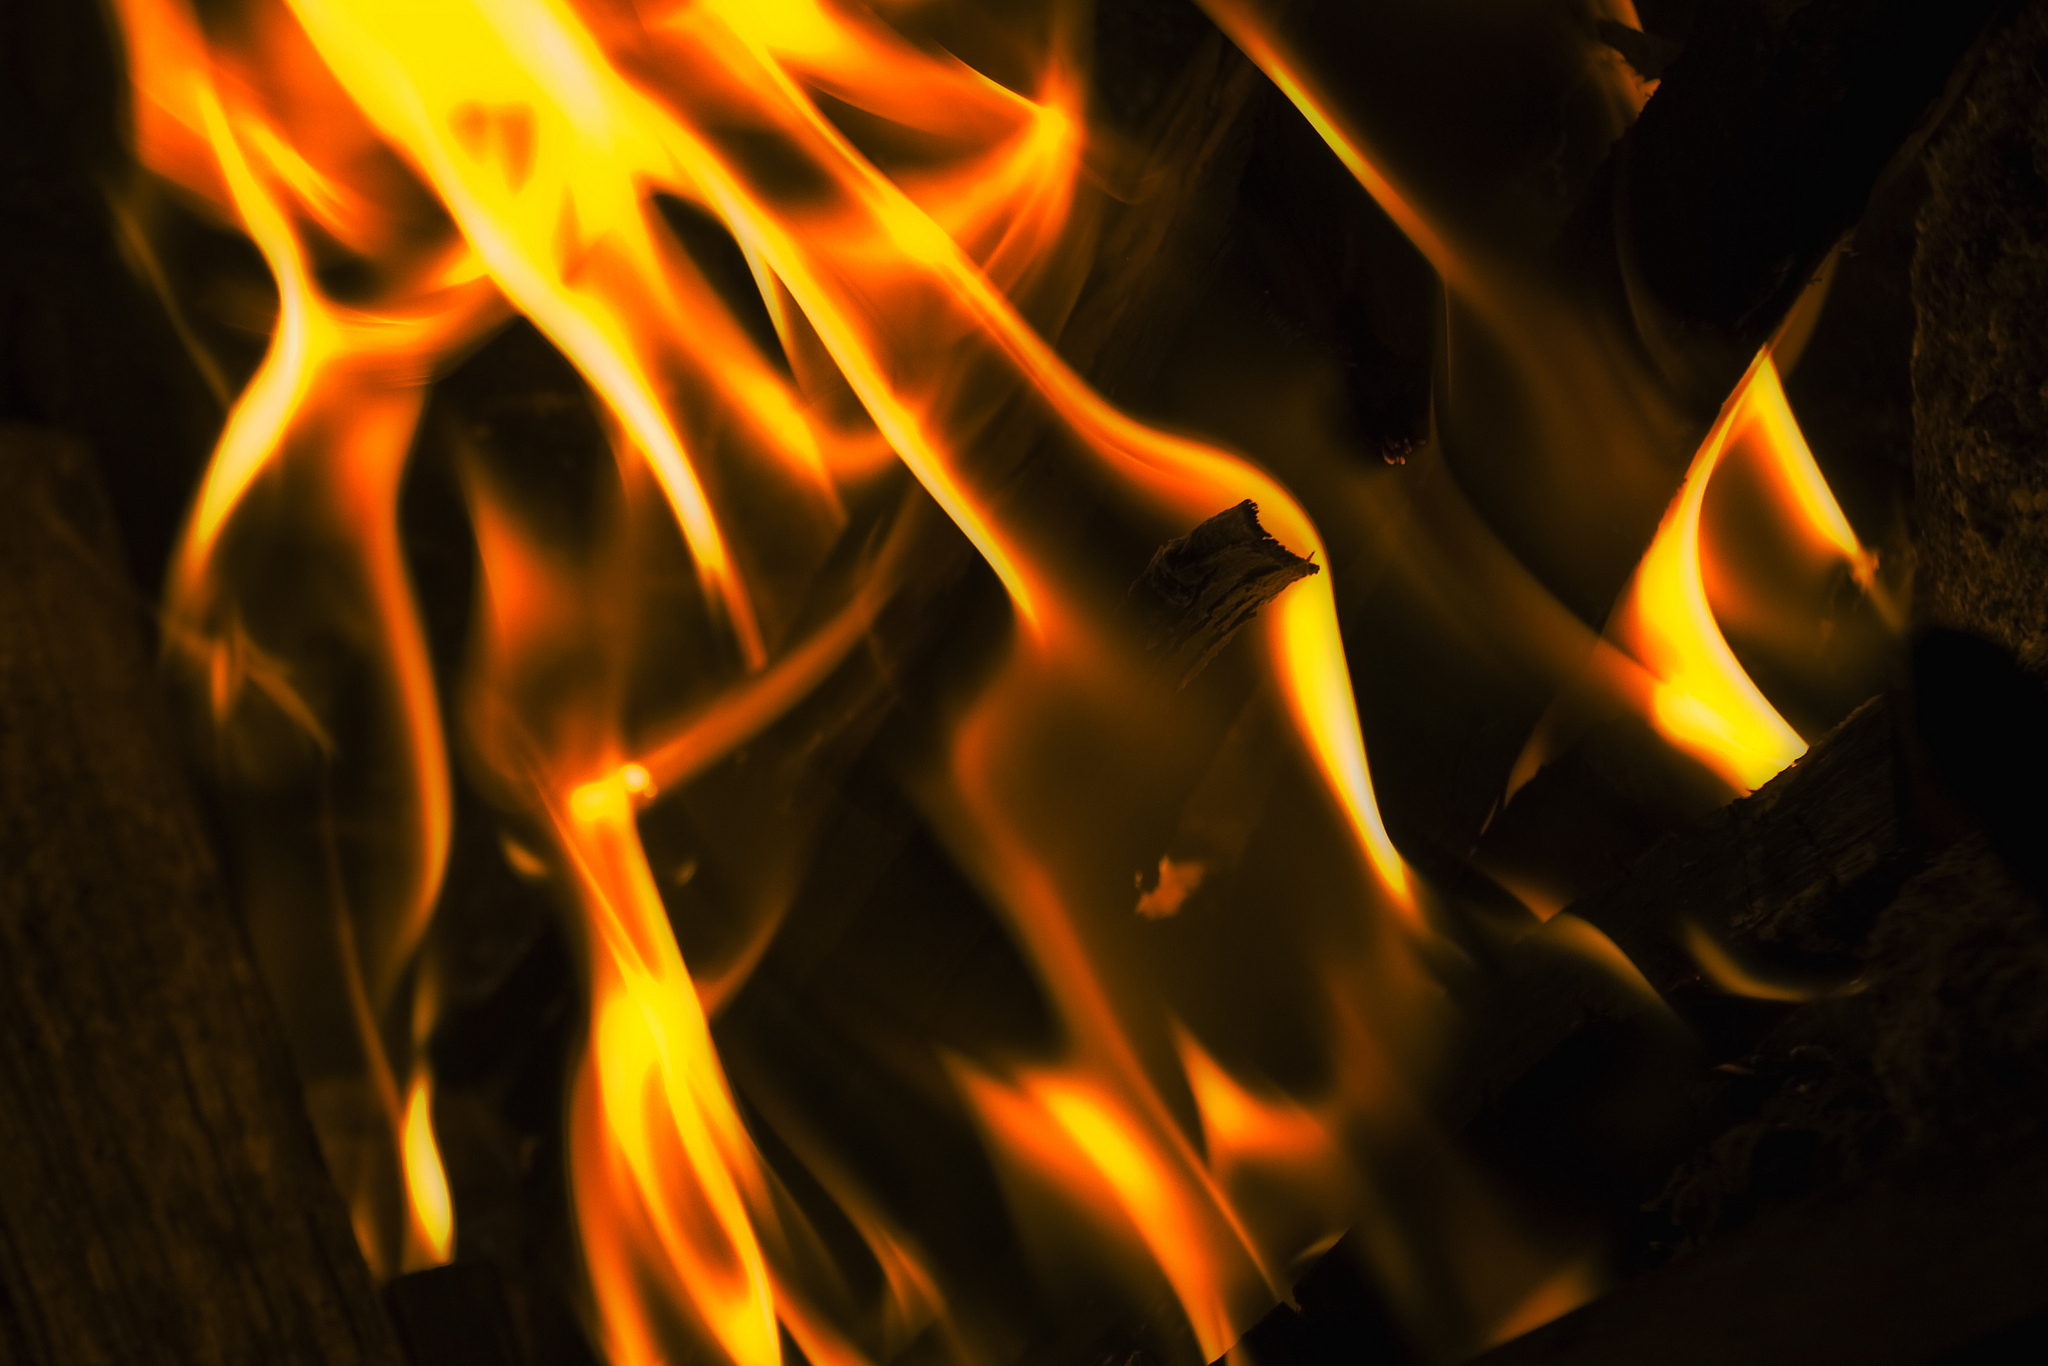fire: (66, 6, 1923, 1342)
